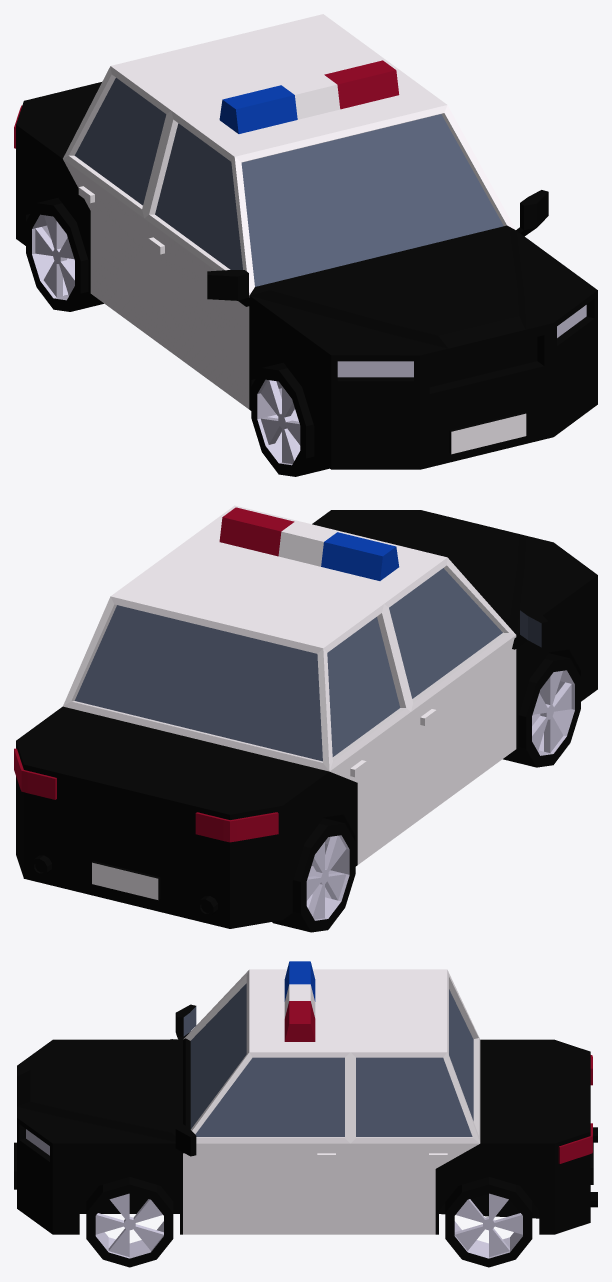
The model's file is Police_Sedan.glb.
The picture shows the model from 3 angles, top to bottom: view 1: azimuth 30°, elevation 25°; view 2: azimuth 150°, elevation 25°; view 3: azimuth 270°, elevation 25°; orthographic projection. The views are drawn at different scales.
Parts seen in each view (by area): view 1: Police Sedan_body black_0, Police Sedan_body white_0, Police Sedan_windows_0, Police Sedan wheel front right_tires_0, Police Sedan wheel rear right_tires_0, Police Sedan wheel front right_wheels_0, Police Sedan wheel rear right_wheels_0, Police Sedan_flashers siren blue_0, Police Sedan_flashers siren red_0, Police Sedan_headlights_0; view 2: Police Sedan_body black_0, Police Sedan_body white_0, Police Sedan_windows_0, Police Sedan wheel rear right_tires_0, Police Sedan wheel front right_tires_0, Police Sedan_rear lights_0, Police Sedan wheel rear right_wheels_0, Police Sedan wheel front right_wheels_0, Police Sedan_flashers siren blue_0, Police Sedan_flashers siren red_0; view 3: Police Sedan_body black_0, Police Sedan_body white_0, Police Sedan_windows_0, Police Sedan wheel front left_tires_0, Police Sedan wheel rear left_tires_0, Police Sedan wheel front left_wheels_0, Police Sedan wheel rear left_wheels_0, Police Sedan_flashers siren red_0, Police Sedan_flashers siren blue_0, Police Sedan_rear lights_0.
Boxes of the visible parts, x1,y1,x2,y2 form: Police Sedan_body black_0: (16,82,597,469); Police Sedan_body white_0: (63,14,526,454); Police Sedan_windows_0: (74,78,503,286); Police Sedan wheel front right_tires_0: (251,362,329,476); Police Sedan wheel rear right_tires_0: (26,198,103,311); Police Sedan wheel front right_wheels_0: (257,379,300,465); Police Sedan wheel rear right_wheels_0: (32,214,74,300); Police Sedan_flashers siren blue_0: (219,85,297,133); Police Sedan_flashers siren red_0: (324,60,399,109); Police Sedan_headlights_0: (337,305,586,377); Police Sedan_body black_0: (16,510,597,928); Police Sedan_body white_0: (63,505,516,899); Police Sedan_windows_0: (74,568,541,761); Police Sedan wheel rear right_tires_0: (272,818,355,932); Police Sedan wheel front right_tires_0: (503,653,580,767); Police Sedan_rear lights_0: (14,748,278,842); Police Sedan wheel rear right_wheels_0: (306,835,349,920); Police Sedan wheel front right_wheels_0: (532,670,574,755); Police Sedan_flashers siren blue_0: (321,532,399,580); Police Sedan_flashers siren red_0: (219,507,294,556); Police Sedan_body black_0: (14,1004,597,1234); Police Sedan_body white_0: (183,969,480,1234); Police Sedan_windows_0: (183,983,473,1136); Police Sedan wheel front left_tires_0: (86,1177,173,1267); Police Sedan wheel rear left_tires_0: (445,1177,532,1267); Police Sedan wheel front left_wheels_0: (95,1193,163,1258); Police Sedan wheel rear left_wheels_0: (454,1193,522,1258); Police Sedan_flashers siren red_0: (284,1001,315,1041); Police Sedan_flashers siren blue_0: (284,961,315,1001); Police Sedan_rear lights_0: (558,1055,592,1163).
Bounding box in the file's own units: 2.81 × 2.19 × 5.23.
